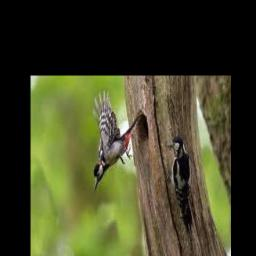Woodpecker: (93, 91, 139, 189), (166, 136, 192, 231)
